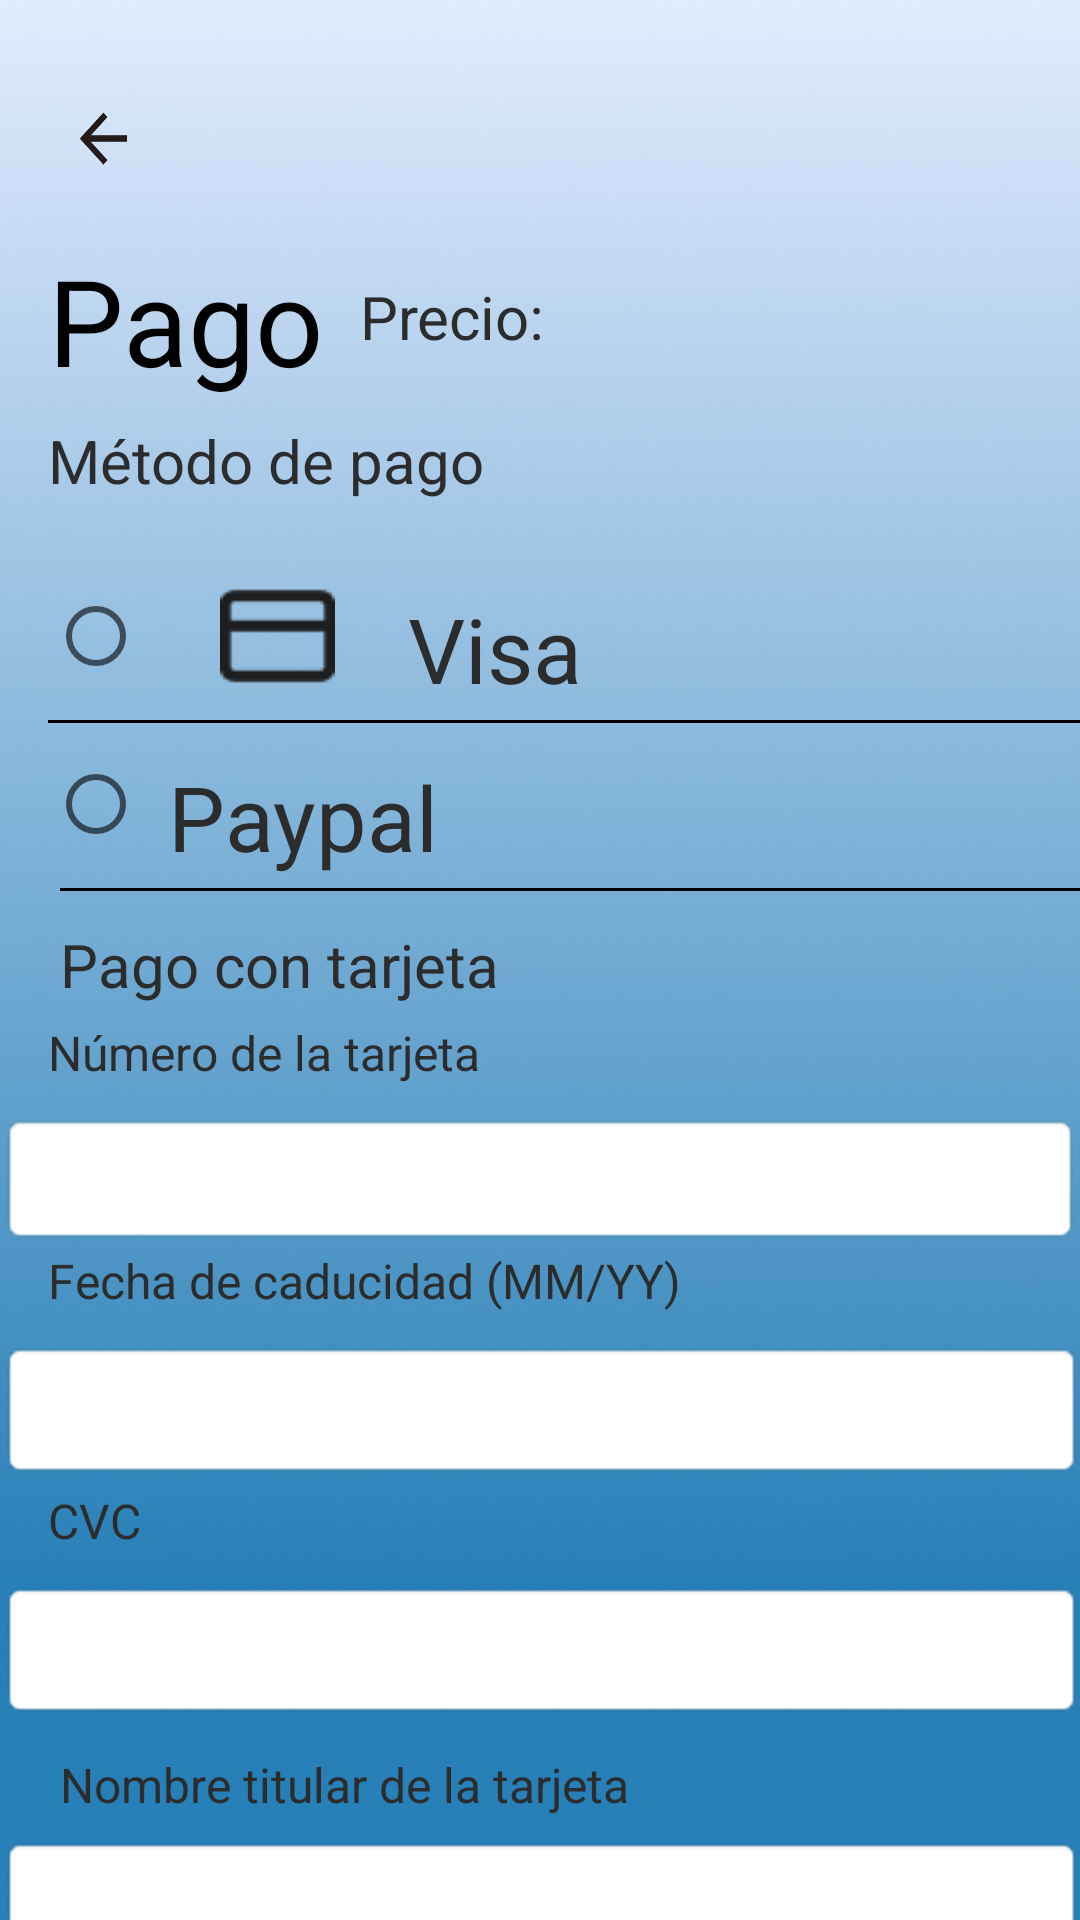

Icons on this 1080px x 1920px Android screen, each with its box as Rect(x1, y1, x2, y2):
flecha atras negra: Rect(80, 112, 127, 165)
tarjeta credito: Rect(220, 589, 335, 683)
